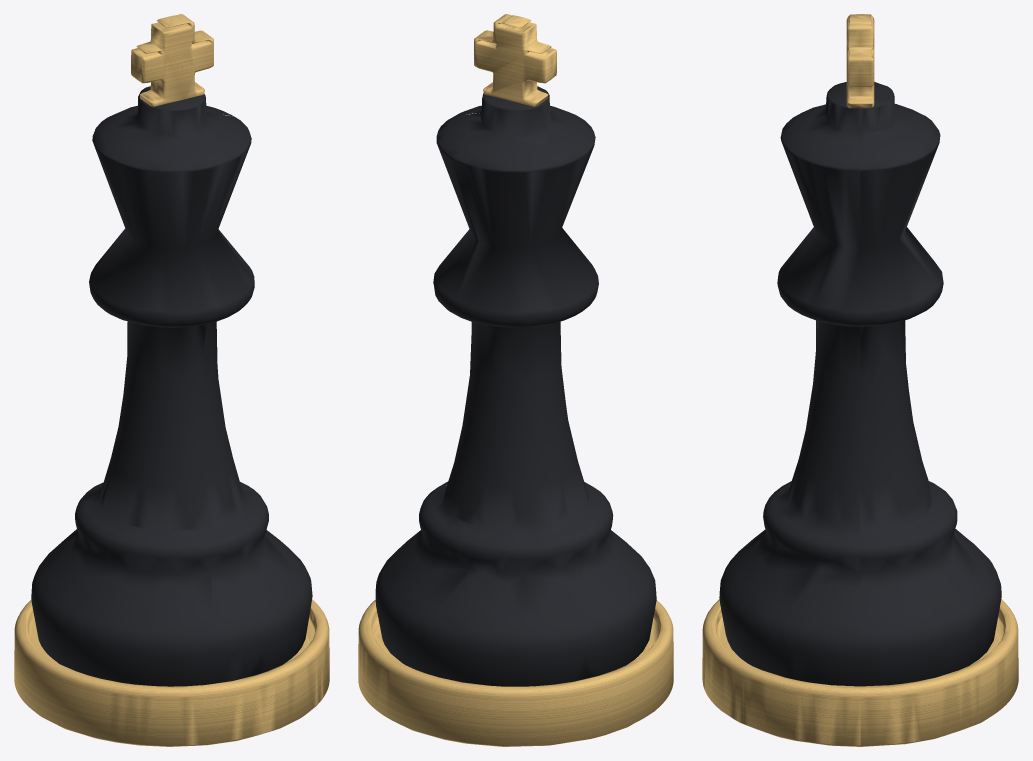
Rendered from king-black.glb.
3 renders of one model, left to right at view 1: azimuth 30°, elevation 25°; view 2: azimuth 150°, elevation 25°; view 3: azimuth 270°, elevation 25°, orthographic.
Visible parts, largest first — view 1: Aurum Noir – King; view 2: Aurum Noir – King; view 3: Aurum Noir – King.
Part boxes in pixels (x1,y1,x2,y2): Aurum Noir – King: [14, 14, 329, 746]; Aurum Noir – King: [358, 14, 673, 746]; Aurum Noir – King: [702, 14, 1018, 746].
Size of the model in its own units: 0.7141 by 1.65 by 0.7139.
2 materials, 1 textured.
